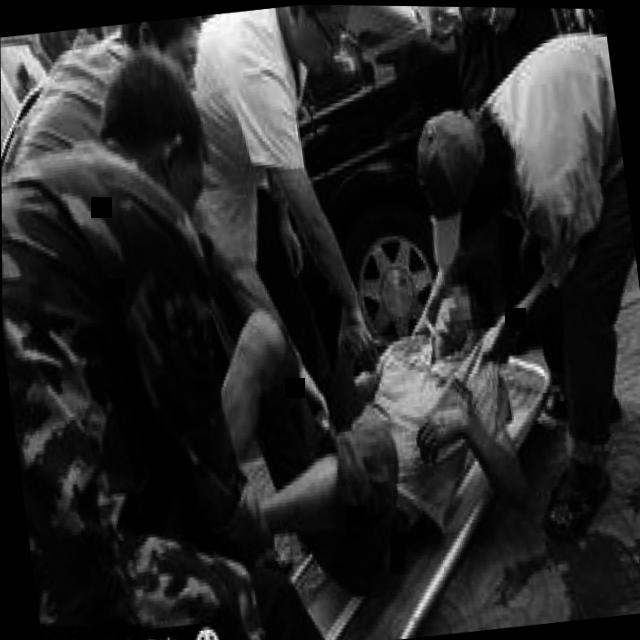Fall-Detected: (206, 219, 541, 603)
